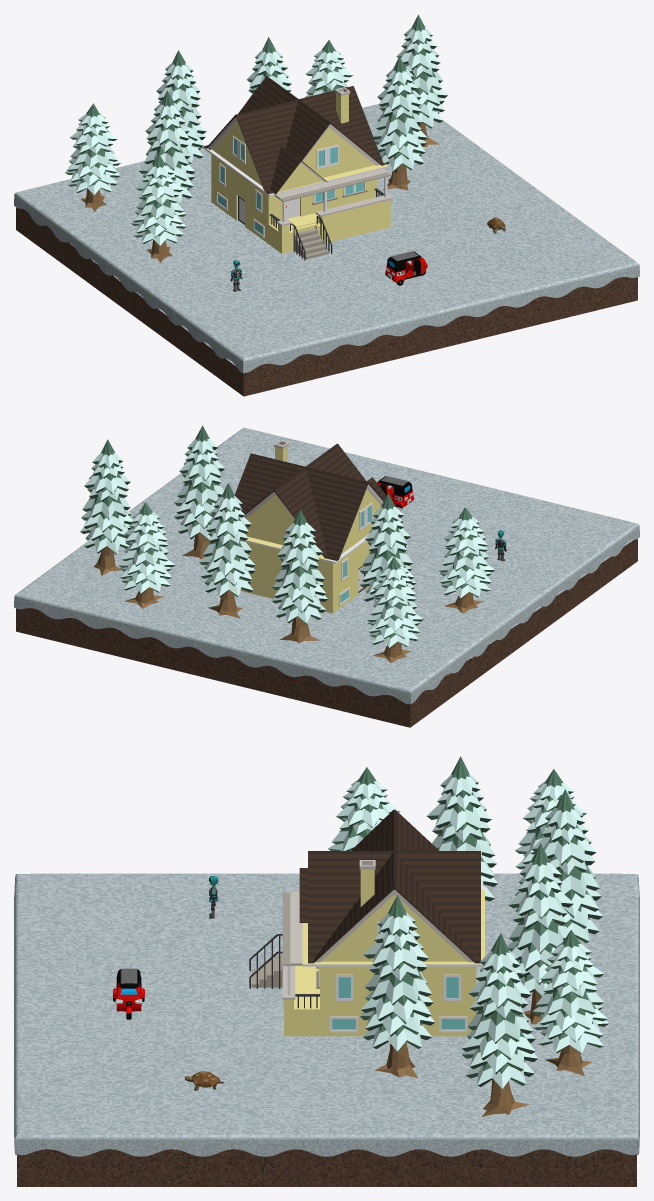
The picture shows the model from 3 angles, top to bottom: view 1: azimuth 30°, elevation 25°; view 2: azimuth 150°, elevation 25°; view 3: azimuth 270°, elevation 25°; orthographic projection. The views are drawn at different scales.
Visible parts, largest first — view 1: Cube.003, Cube.1555, VEHICLES_TUC_TUC; view 2: Cube.003, Cube.1555, VEHICLES_TUC_TUC; view 3: Cube.003, Cube.1555, VEHICLES_TUC_TUC.
Boxes of the visible parts, x1=… form: Cube.003: x1=14, y1=14, x2=639, y2=396; Cube.1555: x1=202, y1=76, x2=393, y2=260; VEHICLES_TUC_TUC: x1=385, y1=251, x2=427, y2=285; Cube.003: x1=14, y1=425, x2=639, y2=727; Cube.1555: x1=235, y1=440, x2=405, y2=613; VEHICLES_TUC_TUC: x1=377, y1=476, x2=414, y2=508; Cube.003: x1=14, y1=756, x2=639, y2=1186; Cube.1555: x1=249, y1=809, x2=484, y2=1036; VEHICLES_TUC_TUC: x1=113, y1=968, x2=144, y2=1019.
Bounding box in the file's own units: 4040 × 1670 × 4040.
Materials: 41 (3 with a texture image).
